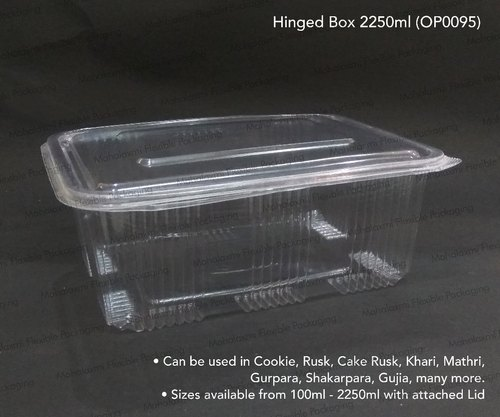PlasticBox: (38, 110, 464, 335)
